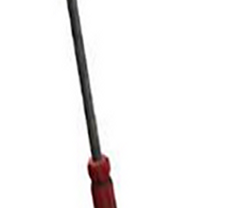screwdriver: (49, 1, 135, 208)
